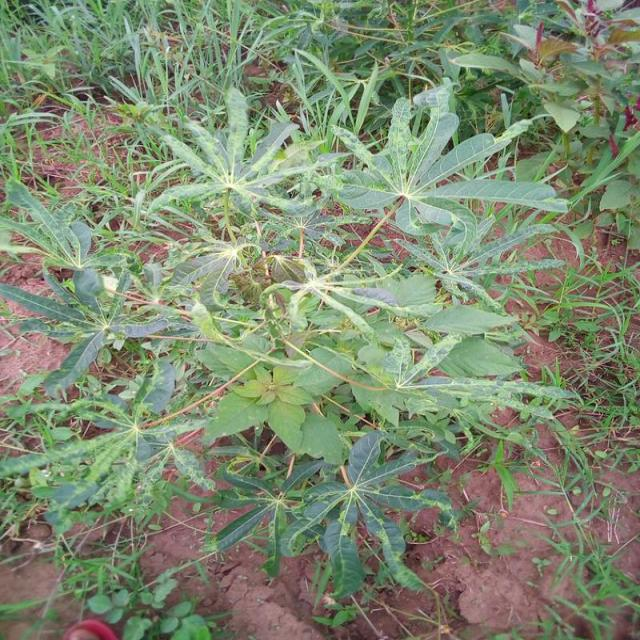cassava leaf: (1, 56, 578, 609)
